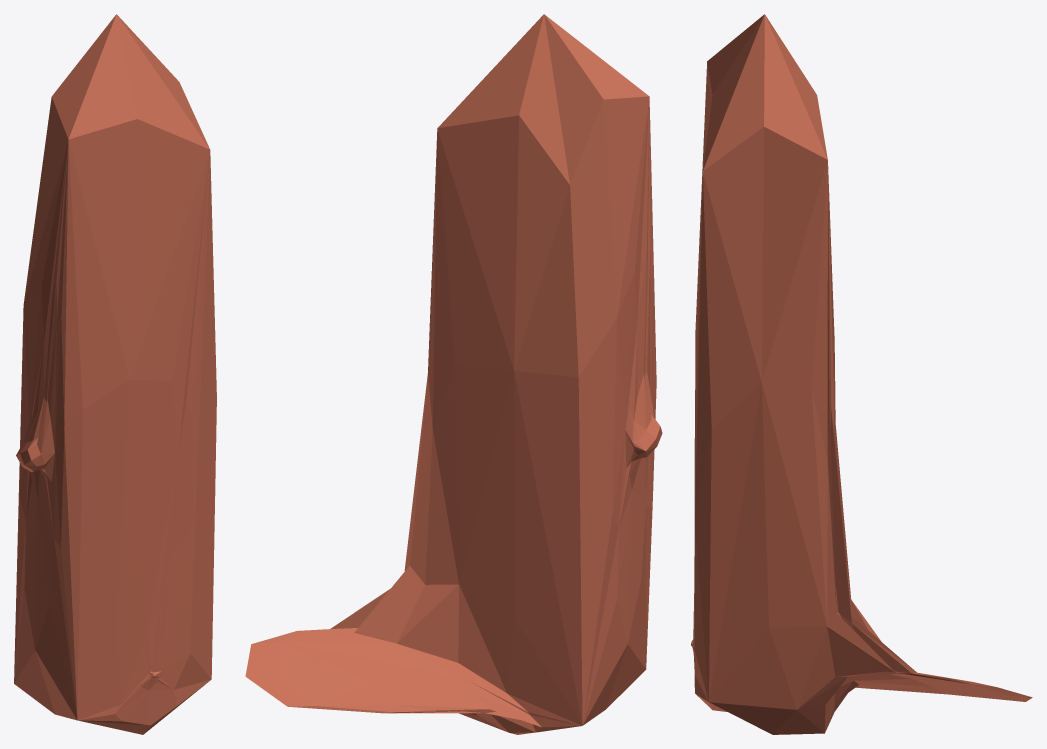
The picture shows the model from 3 angles, left to right: view 1: azimuth 30°, elevation 25°; view 2: azimuth 150°, elevation 25°; view 3: azimuth 270°, elevation 25°; orthographic projection.
Parts seen in each view (by area): view 1: 899_Cube.3630; view 2: 899_Cube.3630; view 3: 899_Cube.3630.
Part boxes in pixels (x1=…): 899_Cube.3630: x1=14, y1=14, x2=216, y2=734; 899_Cube.3630: x1=245, y1=14, x2=662, y2=734; 899_Cube.3630: x1=691, y1=14, x2=1032, y2=734.
Bounding box in the file's own units: 4.99 × 11.96 × 5.28.
